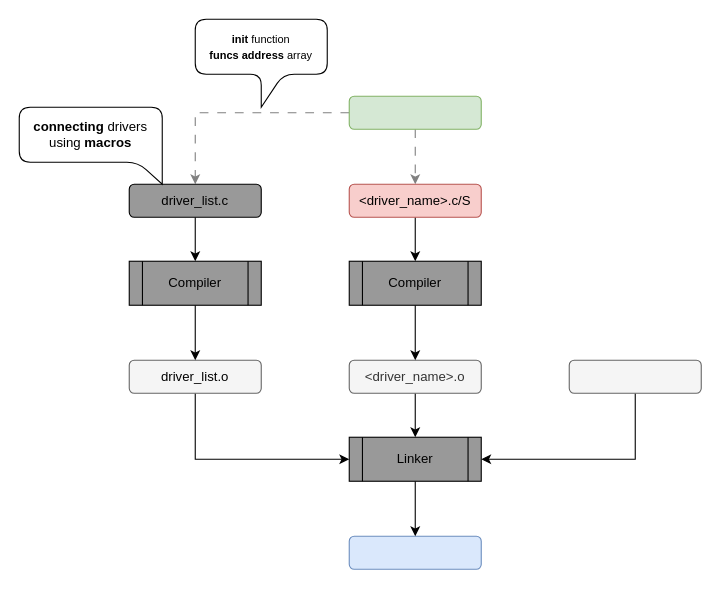
This 721x589 diagram has some shape labels left out. Each missing label, with the box of its shape:
<driver_name>.h: (348, 95, 481, 129)
<other>.o: (568, 359, 701, 393)
kernel.elf: (348, 535, 481, 569)
